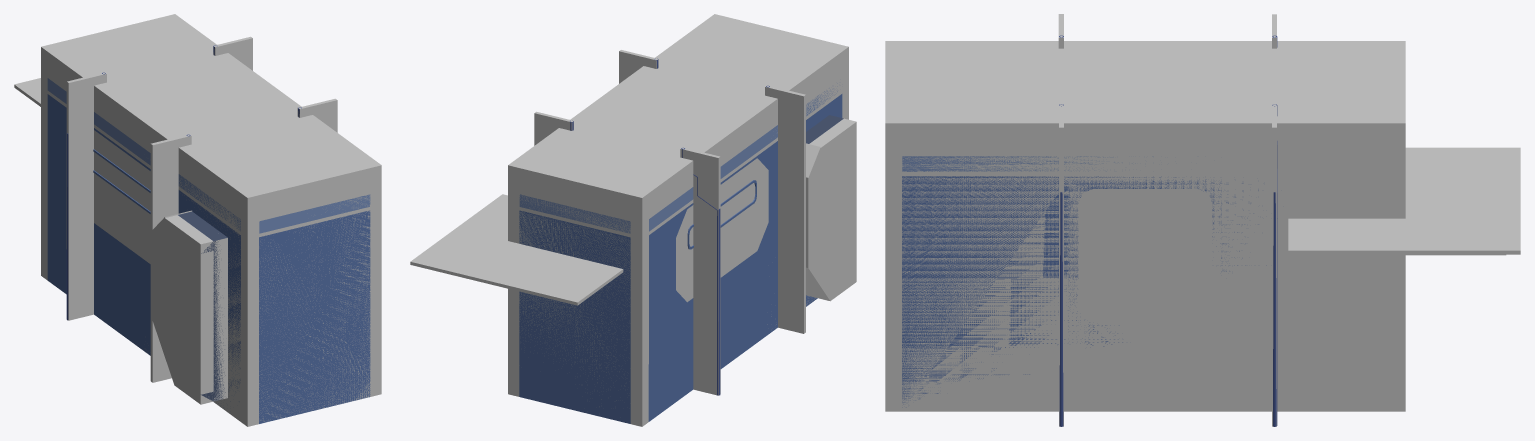
The model's file is SM_Building_08.fbx.
3 views of the same model, side by side, from view 1: azimuth 30°, elevation 25°; view 2: azimuth 150°, elevation 25°; view 3: azimuth 270°, elevation 25° (orthographic). The views are drawn at different scales.
Visible parts, largest first — view 1: SM_Building_08_ConvexHulls, SM_Building_08; view 2: SM_Building_08_ConvexHulls, SM_Building_08; view 3: SM_Building_08_ConvexHulls, SM_Building_08.
Boxes of the visible parts, bbox=[...] form: SM_Building_08_ConvexHulls: bbox=[14, 14, 381, 426]; SM_Building_08: bbox=[47, 45, 370, 423]; SM_Building_08_ConvexHulls: bbox=[410, 14, 856, 426]; SM_Building_08: bbox=[519, 58, 843, 423]; SM_Building_08_ConvexHulls: bbox=[885, 14, 1520, 426]; SM_Building_08: bbox=[902, 35, 1277, 426].
Bounding box in the file's own units: 428 × 875 × 455.
Materials: 2 (1 with a texture image).
